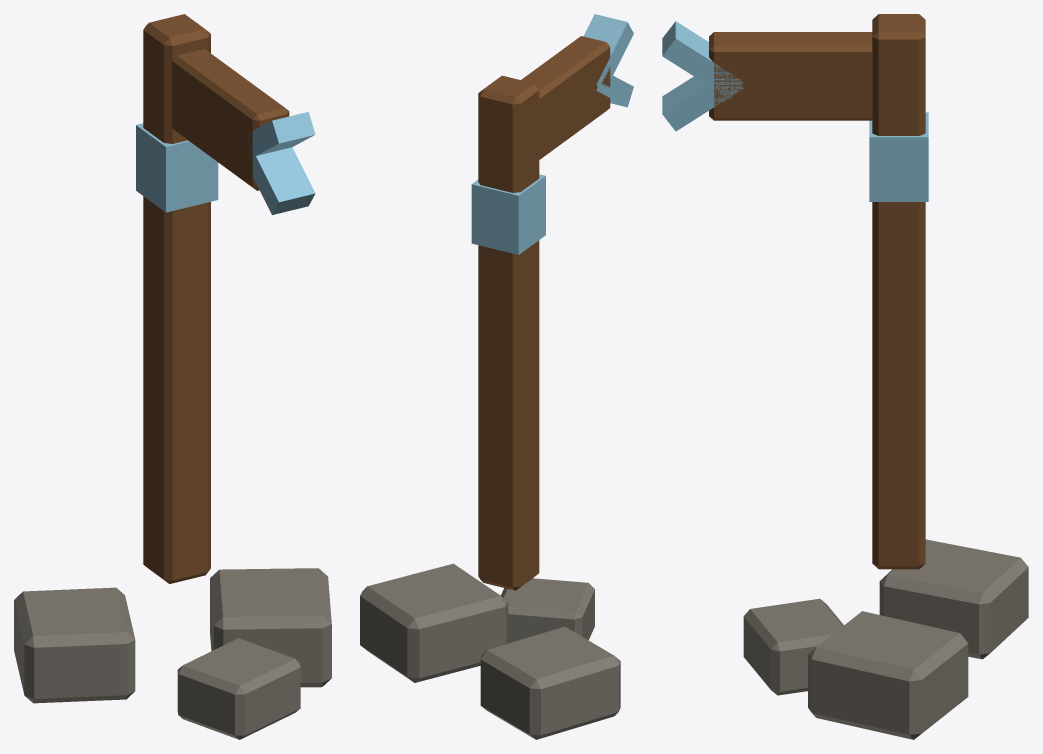
Rendered from Prop_Lab_PassageMarker_LOD1.glb.
The picture shows the model from 3 angles, left to right: view 1: azimuth 30°, elevation 25°; view 2: azimuth 150°, elevation 25°; view 3: azimuth 270°, elevation 25°; orthographic projection. The views are drawn at different scales.
Parts seen in each view (by area): view 1: Prop_Lab_PassageMarker; view 2: Prop_Lab_PassageMarker; view 3: Prop_Lab_PassageMarker.
Boxes of the visible parts, left/top/right/bottom form: Prop_Lab_PassageMarker: left=14, top=14, right=331, bottom=739; Prop_Lab_PassageMarker: left=360, top=14, right=633, bottom=739; Prop_Lab_PassageMarker: left=662, top=14, right=1028, bottom=739.
Bounding box in the file's own units: 0.5623 × 1.2 × 0.6175.
